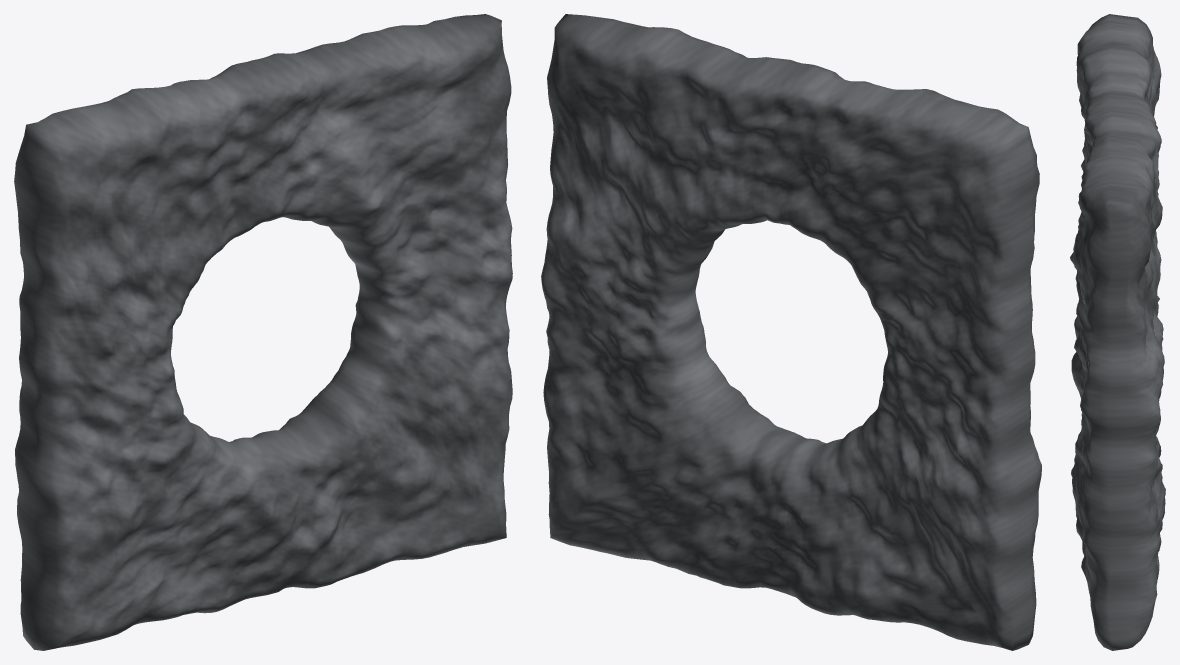
Rendered from Ovrnite-Stone.glb.
The picture shows the model from 3 angles, left to right: view 1: azimuth 30°, elevation 25°; view 2: azimuth 150°, elevation 25°; view 3: azimuth 270°, elevation 25°; orthographic projection. The views are drawn at different scales.
Parts seen in each view (by area): view 1: Stone_Slab_No_Text; view 2: Stone_Slab_No_Text; view 3: Stone_Slab_No_Text.
Part boxes in pixels (bbox=[...]): Stone_Slab_No_Text: bbox=[14, 14, 512, 650]; Stone_Slab_No_Text: bbox=[541, 14, 1041, 650]; Stone_Slab_No_Text: bbox=[1070, 14, 1165, 650].
Size of the model in its own units: 2.05 by 2.18 by 0.4169.
Materials: 1 (1 with a texture image).
